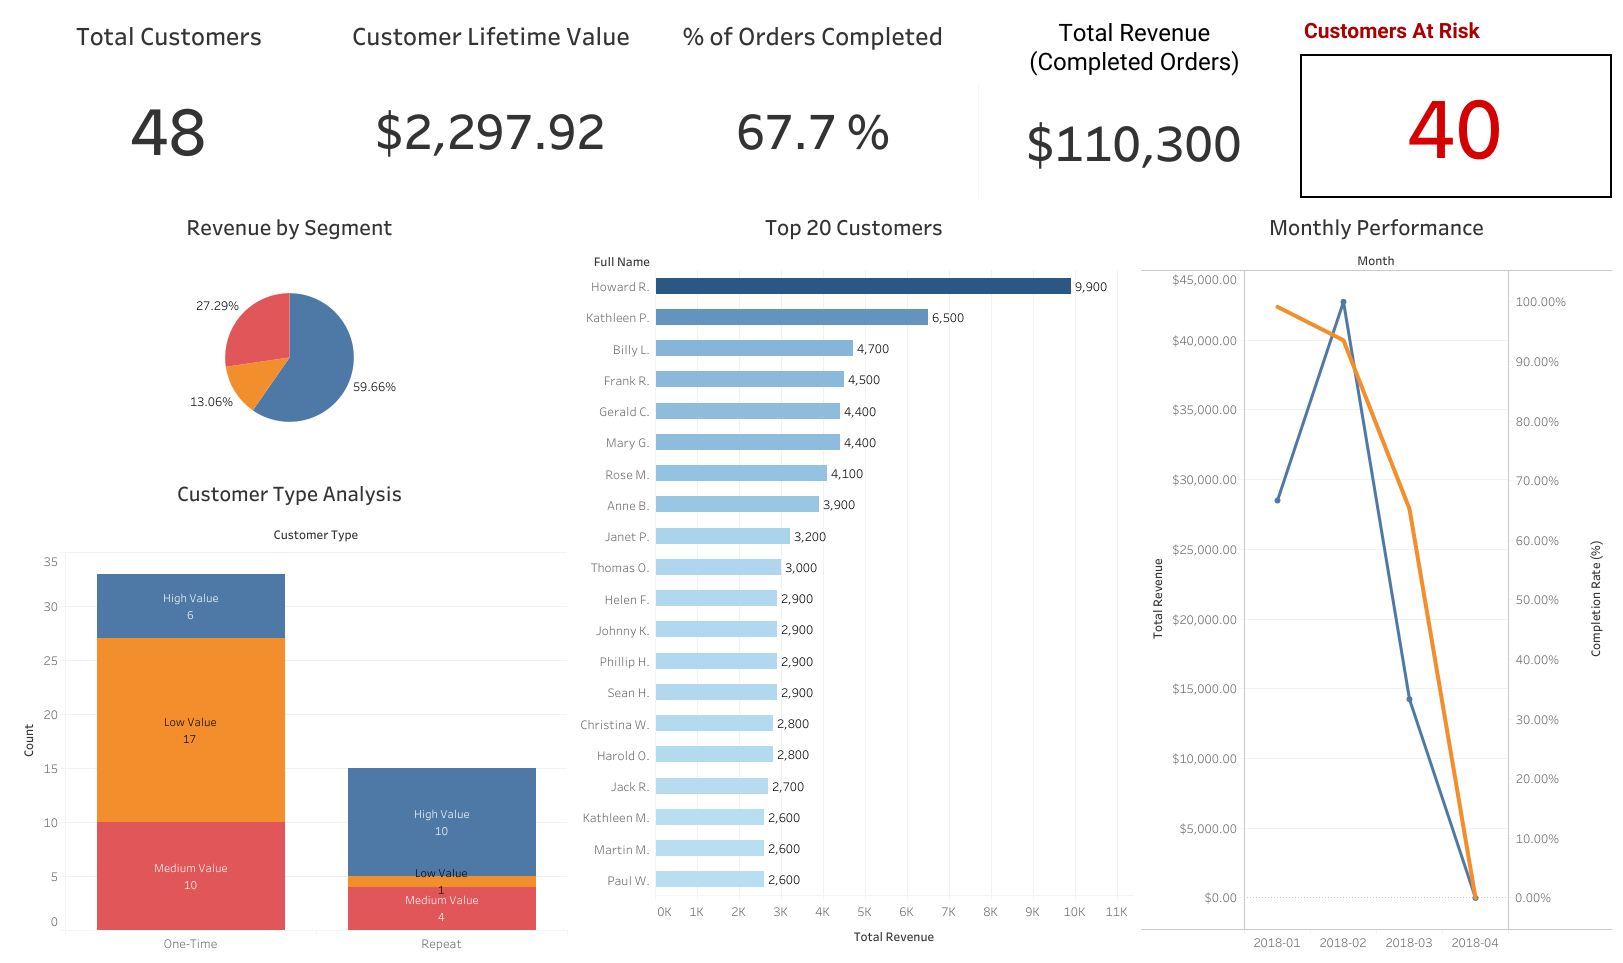

The page's visual inventory and layout, read from the dashboard file:
{"tool":"tableau","page":{"name":"Executive Summary","canvas":[1624,964],"ordinal":0},"visuals":[{"type":"worksheet","title":"Total Customers","mark":"Automatic","box":[8,8,322,194]},{"type":"worksheet","title":"Create Calculated Field","mark":"Automatic","box":[330,8,322,194]},{"type":"worksheet","title":"Completion Rate","mark":"Automatic","box":[652,8,322,194]},{"type":"worksheet","title":"Total Revenue","mark":"Automatic","box":[974,8,321,194]},{"type":"worksheet","title":"At Risk Alert","mark":"Automatic","box":[1295,8,321,194]},{"type":"worksheet","title":"Revenue by Segment","mark":"Pie","box":[8,202.1,563,267]},{"type":"worksheet","title":"Top 20 Customers","mark":"Automatic","rows":["full_name"],"cols":["total_revenue"],"box":[571,202.1,566,753.9]},{"type":"worksheet","title":"Monthly Performance","mark":"Line","rows":["Revenue","Completion_Rate_Pct"],"cols":["Month"],"box":[1137.1,202.1,478.9,753.9]},{"type":"worksheet","title":"Customer Type Analysis","mark":"Automatic","rows":["Calculation_1268326280431681536"],"cols":["customer_type"],"box":[8,469.1,563,486.9]}]}

Visuals, with their boxes in screenshot pixels (x1, y1, x2, y2), scaled from the page's 1624x964 canvas onto the 1623x963 screenshot:
"Total Customers" worksheet: BBox(8, 8, 330, 202)
"Create Calculated Field" worksheet: BBox(330, 8, 652, 202)
"Completion Rate" worksheet: BBox(652, 8, 973, 202)
"Total Revenue" worksheet: BBox(973, 8, 1294, 202)
"At Risk Alert" worksheet: BBox(1294, 8, 1615, 202)
"Revenue by Segment" worksheet (Pie marks): BBox(8, 202, 571, 469)
"Top 20 Customers" worksheet: BBox(571, 202, 1136, 955)
"Monthly Performance" worksheet (Line marks): BBox(1136, 202, 1615, 955)
"Customer Type Analysis" worksheet: BBox(8, 469, 571, 955)
